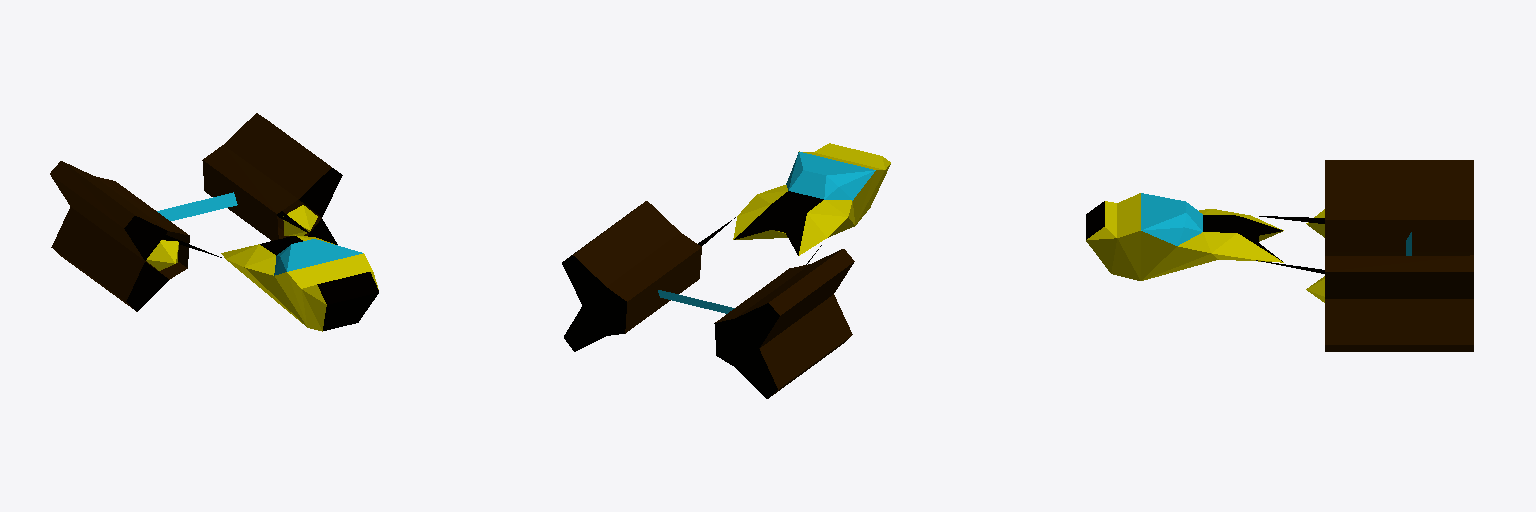
Rendered from Pod2.obj.
The picture shows the model from 3 angles: view 1: azimuth 30°, elevation 25°; view 2: azimuth 150°, elevation 25°; view 3: azimuth 270°, elevation 25°; orthographic projection.
Parts seen in each view (by area): view 1: Engine_R_Cube.001_Engine, Body_Cube_BaseColor, Engine_R_Cube.001_Complement, Body_Cube_Complement, Body_Cube_Glass, Engine_R_Cube.001_BaseColor; view 2: Engine_R_Cube.001_Engine, Engine_R_Cube.001_Complement, Body_Cube_BaseColor, Body_Cube_Glass, Body_Cube_Complement; view 3: Engine_R_Cube.001_Engine, Body_Cube_BaseColor, Body_Cube_Glass, Body_Cube_Complement.
Part boxes in pixels (left/top/right/bottom): Engine_R_Cube.001_Engine: left=50, top=113, right=336, bottom=311; Body_Cube_BaseColor: left=221, top=235, right=378, bottom=331; Engine_R_Cube.001_Complement: left=124, top=168, right=342, bottom=311; Body_Cube_Complement: left=163, top=211, right=378, bottom=330; Body_Cube_Glass: left=157, top=192, right=362, bottom=275; Engine_R_Cube.001_BaseColor: left=146, top=205, right=317, bottom=270; Engine_R_Cube.001_Engine: left=567, top=201, right=854, bottom=398; Engine_R_Cube.001_Complement: left=562, top=255, right=779, bottom=398; Body_Cube_BaseColor: left=733, top=143, right=890, bottom=255; Body_Cube_Glass: left=658, top=152, right=875, bottom=313; Body_Cube_Complement: left=698, top=191, right=823, bottom=264; Engine_R_Cube.001_Engine: left=1325, top=160, right=1473, bottom=351; Body_Cube_BaseColor: left=1086, top=193, right=1283, bottom=280; Body_Cube_Glass: left=1141, top=193, right=1411, bottom=255; Body_Cube_Complement: left=1086, top=201, right=1324, bottom=273.
Size of the model in its own units: 12.24 by 5.22 by 18.83.